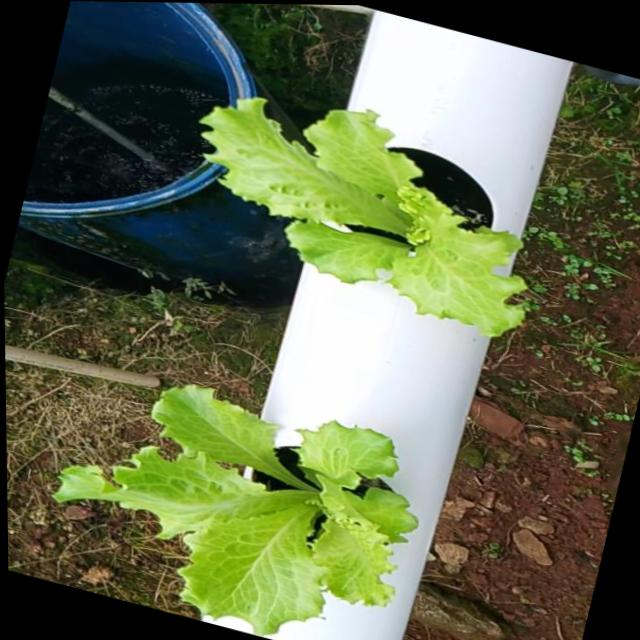Baby: (54, 373, 417, 624), (190, 79, 522, 319)
